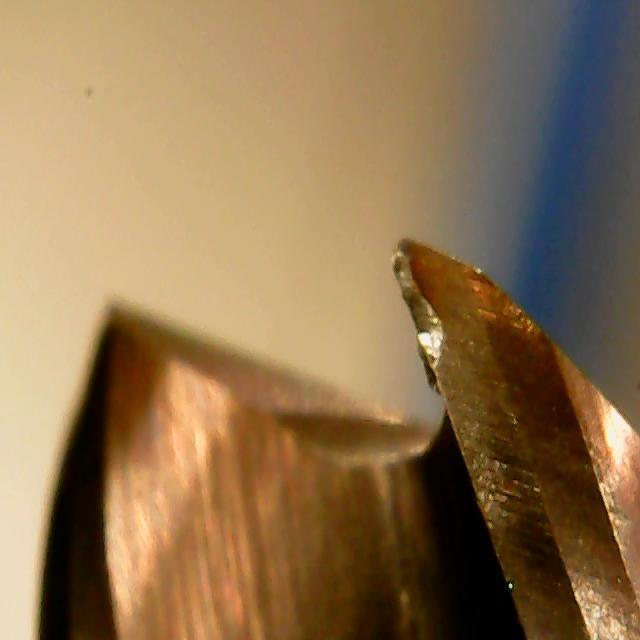Tool-wear-class-1: (363, 226, 523, 498)
